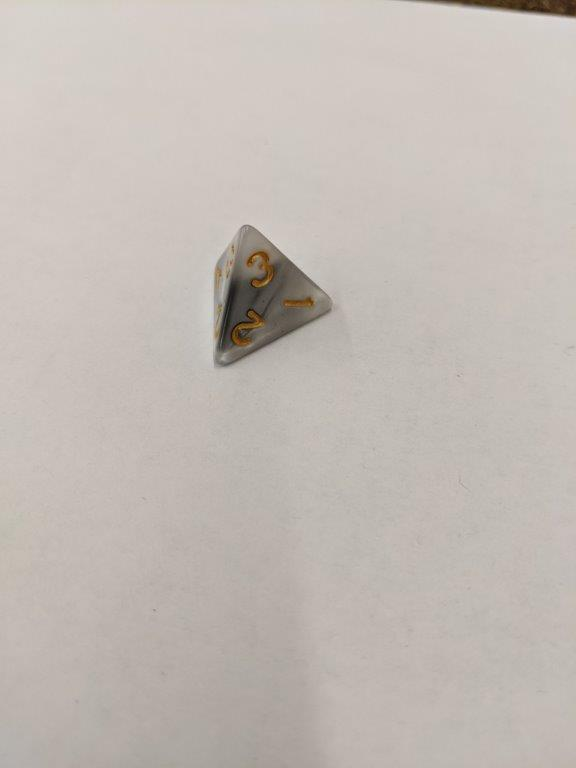d4-3: (205, 221, 333, 369)
